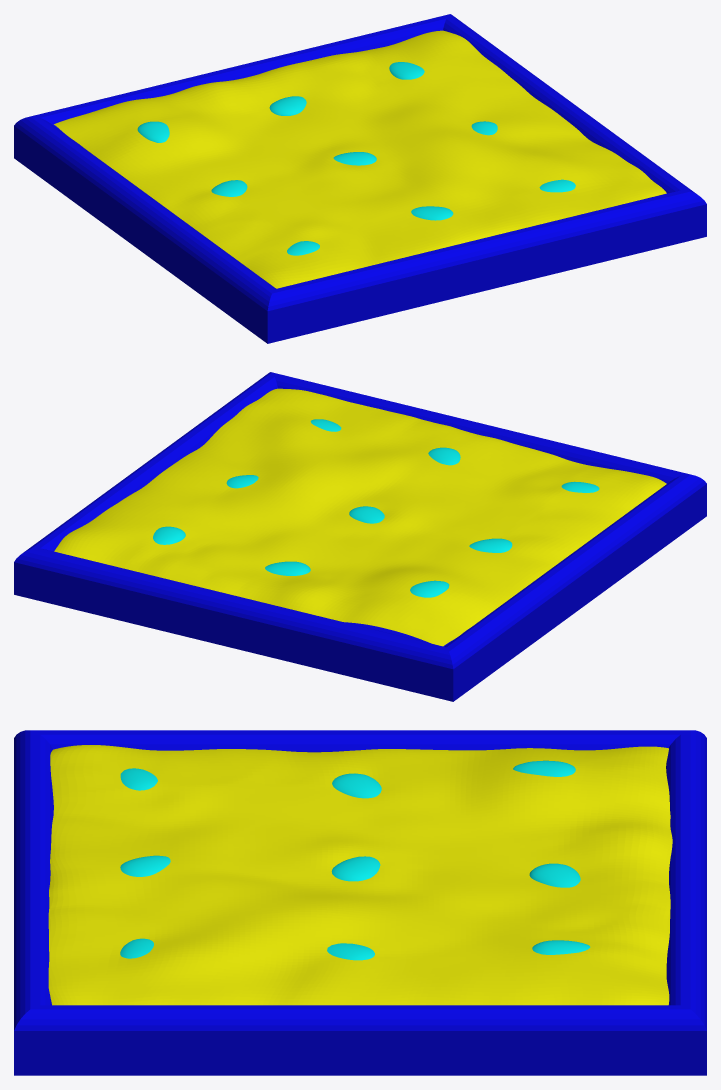
The model's file is Stage_2.fbx.
3 views of the same model, one above another, from view 1: azimuth 30°, elevation 25°; view 2: azimuth 150°, elevation 25°; view 3: azimuth 270°, elevation 25° (orthographic). The views are drawn at different scales.
Visible parts, largest first — view 1: pasted__pasted__Bed_HPdirt, pasted__pasted__baseBed_HP, Stage_1:Carrot_Seed_1_Stage_8, Stage_1:Carrot_Seed_1_Stage_9; view 2: pasted__pasted__Bed_HPdirt, pasted__pasted__baseBed_HP, Stage_1:Carrot_Seed_1_Stage_8, Stage_1:Carrot_Seed_1_Stage_9; view 3: pasted__pasted__Bed_HPdirt, pasted__pasted__baseBed_HP, Stage_1:Carrot_Seed_1_Stage_8, Stage_1:Carrot_Seed_1_Stage_5, Stage_1:Carrot_Seed_1_Stage_6, Stage_1:Carrot_Seed_1_Stage_2, Stage_1:Carrot_Seed_1_Stage_9, Stage_1:Carrot_Seed_1_Stage_7, Stage_1:Carrot_Seed_1_Stage_1, Stage_1:Carrot_Seed_1_Stage_4.
Boxes of the visible parts, x1,y1,x2,y2 form: pasted__pasted__Bed_HPdirt: [54, 30, 666, 288]; pasted__pasted__baseBed_HP: [14, 14, 706, 343]; Stage_1:Carrot_Seed_1_Stage_8: [269, 96, 306, 115]; Stage_1:Carrot_Seed_1_Stage_9: [137, 121, 169, 142]; pasted__pasted__Bed_HPdirt: [54, 388, 666, 646]; pasted__pasted__baseBed_HP: [14, 372, 706, 701]; Stage_1:Carrot_Seed_1_Stage_8: [265, 561, 310, 575]; Stage_1:Carrot_Seed_1_Stage_9: [410, 580, 449, 597]; pasted__pasted__Bed_HPdirt: [48, 745, 672, 1005]; pasted__pasted__baseBed_HP: [14, 730, 706, 1075]; Stage_1:Carrot_Seed_1_Stage_8: [529, 863, 580, 887]; Stage_1:Carrot_Seed_1_Stage_5: [331, 856, 380, 881]; Stage_1:Carrot_Seed_1_Stage_6: [332, 773, 381, 798]; Stage_1:Carrot_Seed_1_Stage_2: [120, 855, 170, 876]; Stage_1:Carrot_Seed_1_Stage_9: [513, 760, 575, 776]; Stage_1:Carrot_Seed_1_Stage_7: [532, 940, 590, 954]; Stage_1:Carrot_Seed_1_Stage_1: [120, 768, 157, 790]; Stage_1:Carrot_Seed_1_Stage_4: [327, 943, 374, 960].
Bounding box in the file's own units: 4.24 × 0.4913 × 4.24.
